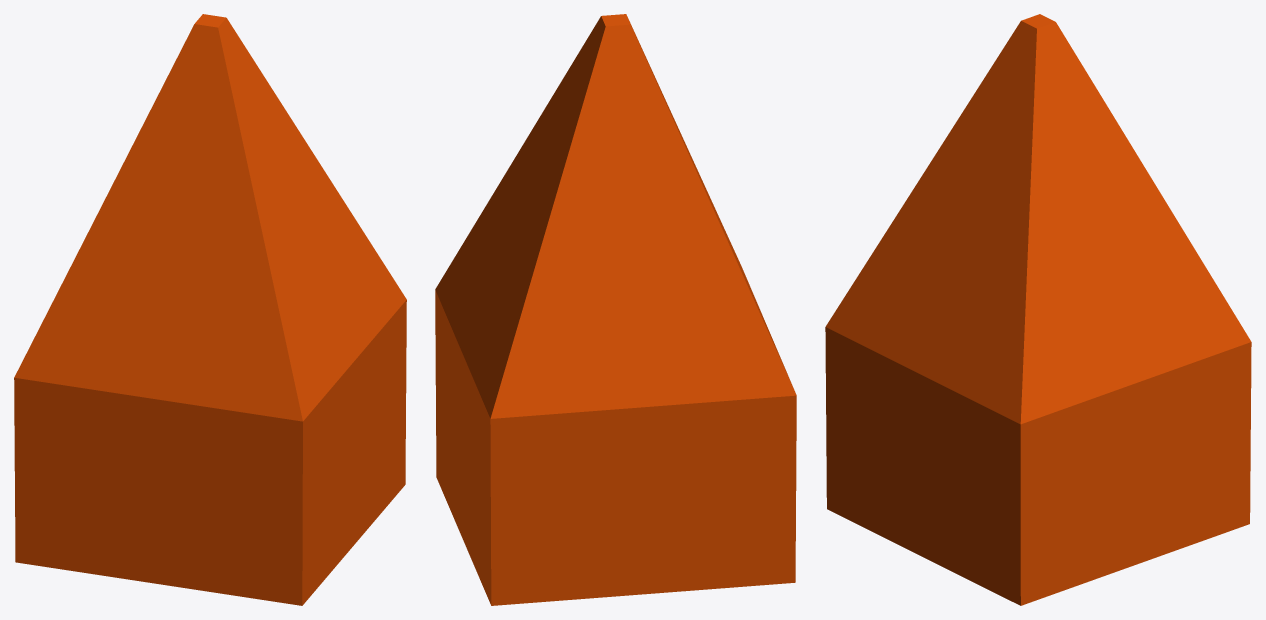
Rendered from tree-autumn-leaves-029.glb.
3 views of the same model, side by side, from view 1: azimuth 30°, elevation 25°; view 2: azimuth 150°, elevation 25°; view 3: azimuth 270°, elevation 25° (orthographic). The views are drawn at different scales.
Visible parts, largest first — view 1: Plane.041_363; view 2: Plane.041_363; view 3: Plane.041_363.
Part boxes in pixels (x1,y1,x2,y2): Plane.041_363: [14, 14, 406, 605]; Plane.041_363: [435, 14, 796, 605]; Plane.041_363: [825, 14, 1251, 605].
Size of the model in its own units: 0.6307 by 0.8087 by 0.6307.
